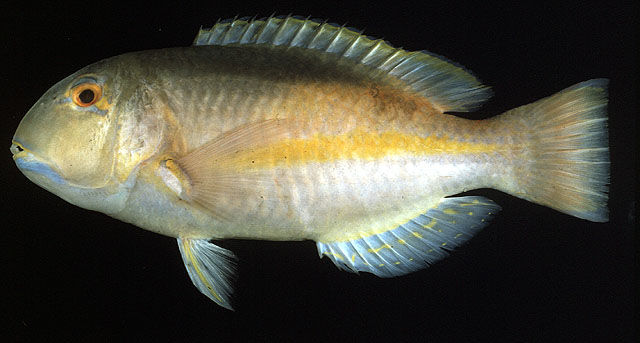fish: (11, 16, 613, 312)
